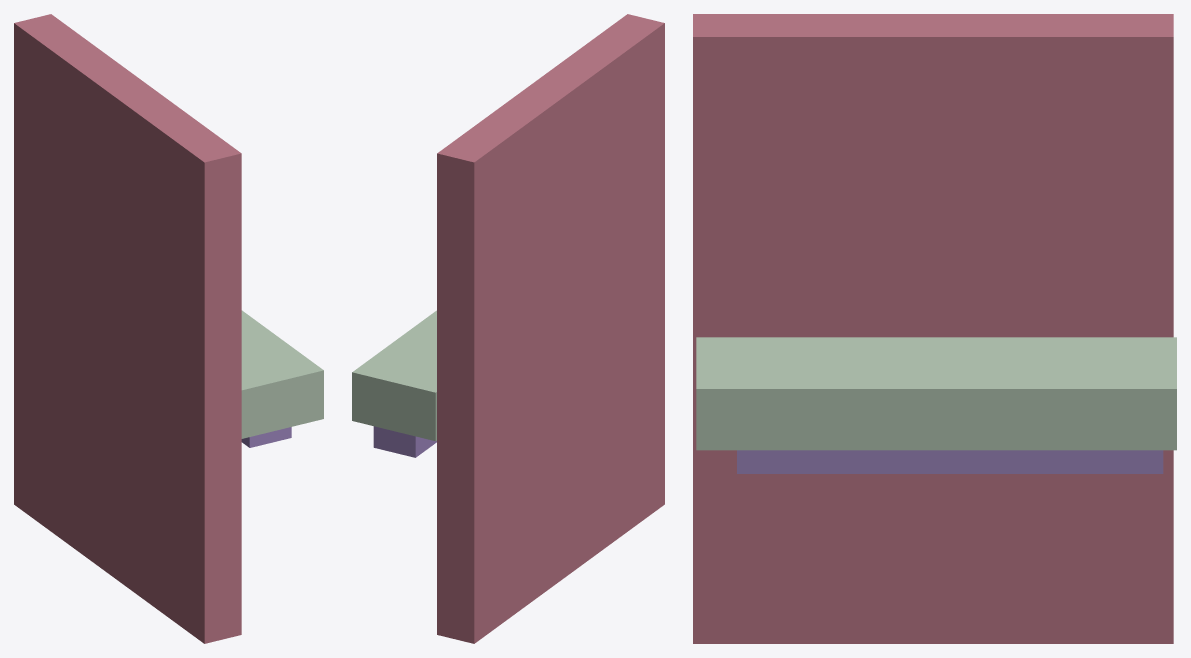
3 renders of one model, left to right at view 1: azimuth 30°, elevation 25°; view 2: azimuth 150°, elevation 25°; view 3: azimuth 270°, elevation 25°, orthographic. The views are drawn at different scales.
Parts seen in each view (by area): view 1: world; view 2: world; view 3: world.
Boxes of the visible parts, x1,y1,x2,y2 form: world: [14, 14, 323, 643]; world: [352, 14, 664, 643]; world: [693, 14, 1176, 643].
Bounding box in the file's own units: 2.6 × 9.9 × 7.15.
